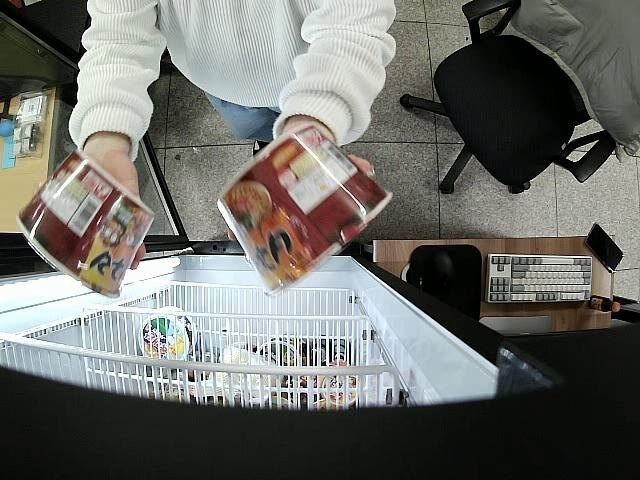05_nuguri_L: (216, 124, 393, 298), (15, 150, 154, 302)
